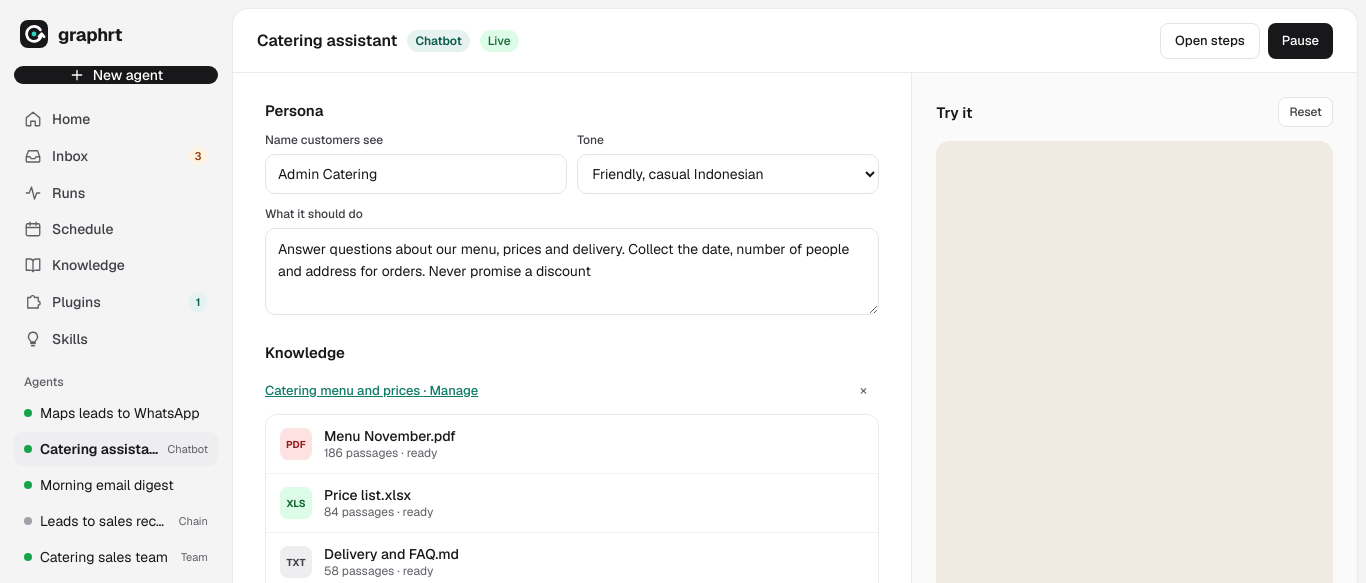
Test: ChatbotSetupPage › lists the attached knowledge base with its sources, and removes and adds knowledge
The width and height of the screenshot is (1366, 583).
Expected: the text "Menu November.pdf" is shown, left=324, top=427, right=456, bottom=445
Step 1. Click the button named "Remove Catering menu and prices" → [863, 390], box left=847, top=374, right=879, bottom=406
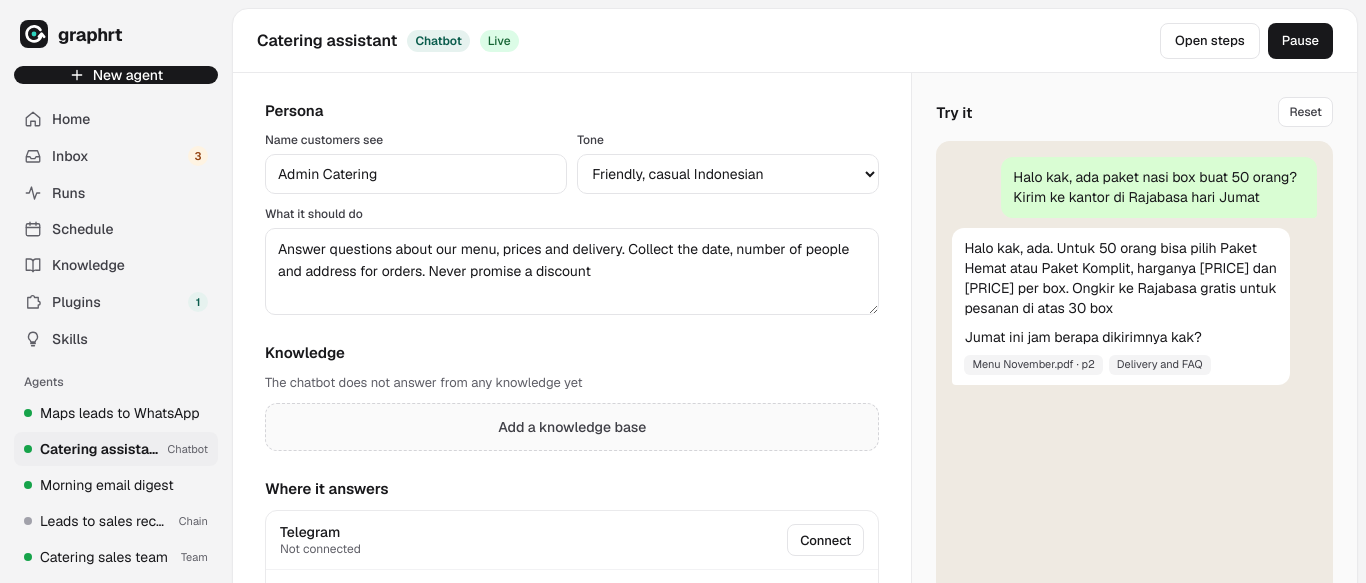
Expected: the text "The chatbot does not answer from any knowledge yet" is shown, left=265, top=374, right=583, bottom=391
Step 2. Click the button "Add a knowledge base" → [572, 427], box left=265, top=403, right=879, bottom=451
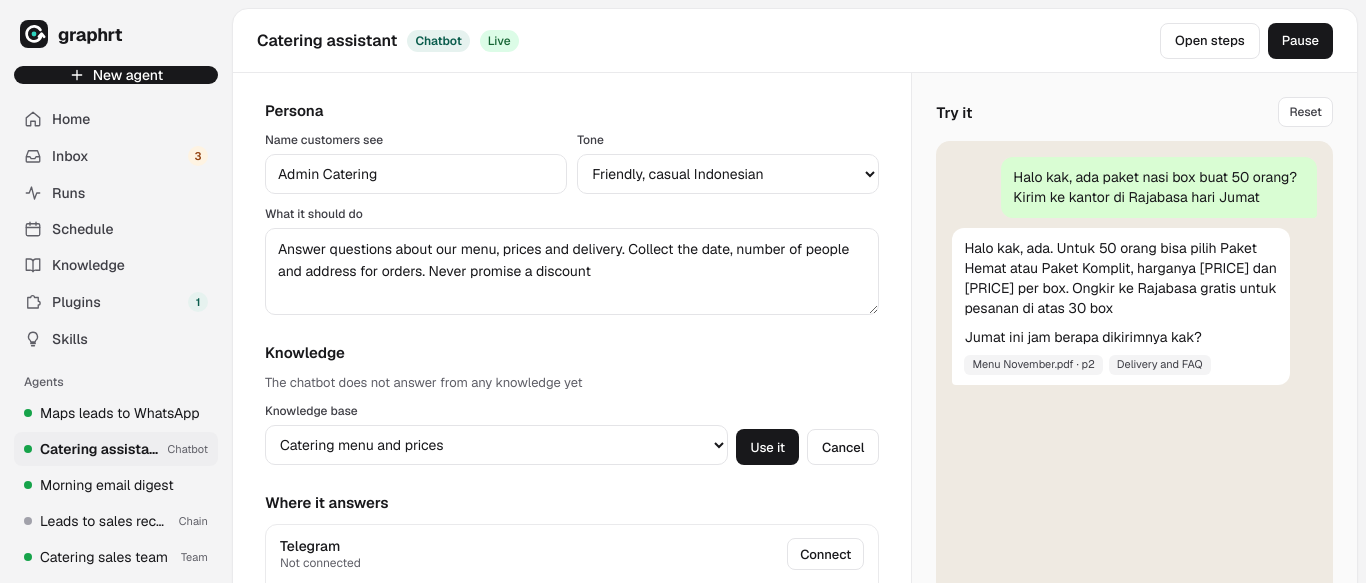
Step 3. Select "Past orders" in the dropdown labelled "Knowledge base" → [497, 445], box left=265, top=425, right=728, bottom=465
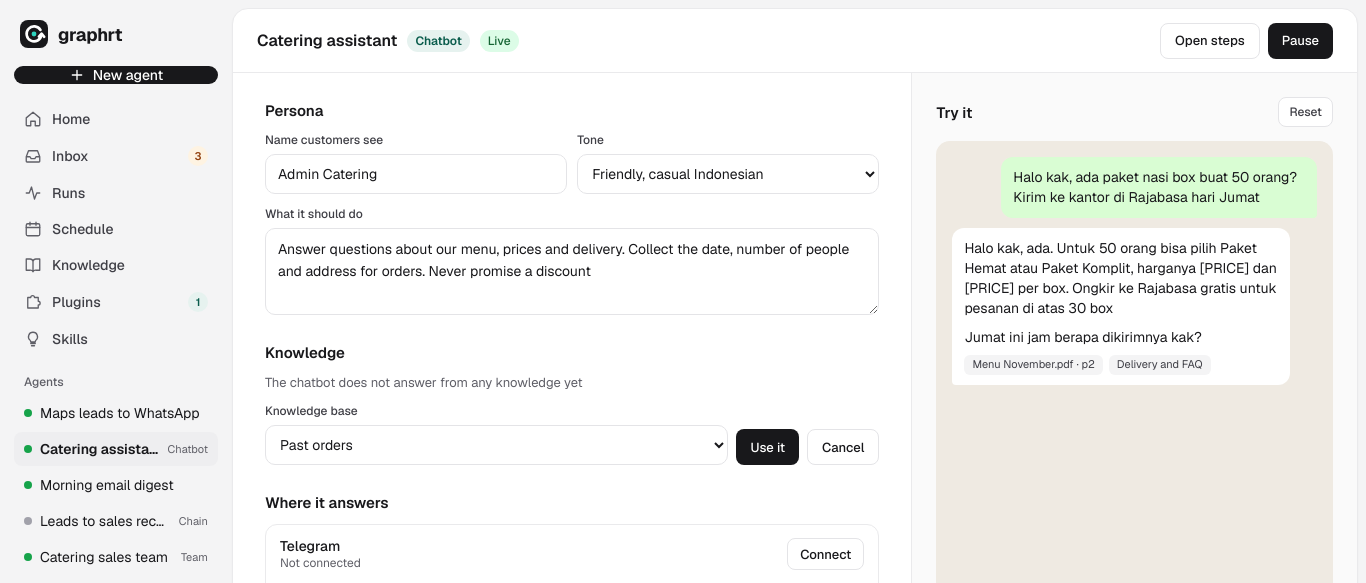
Step 4. Click the button "Use it" → [768, 447], box left=736, top=429, right=799, bottom=465
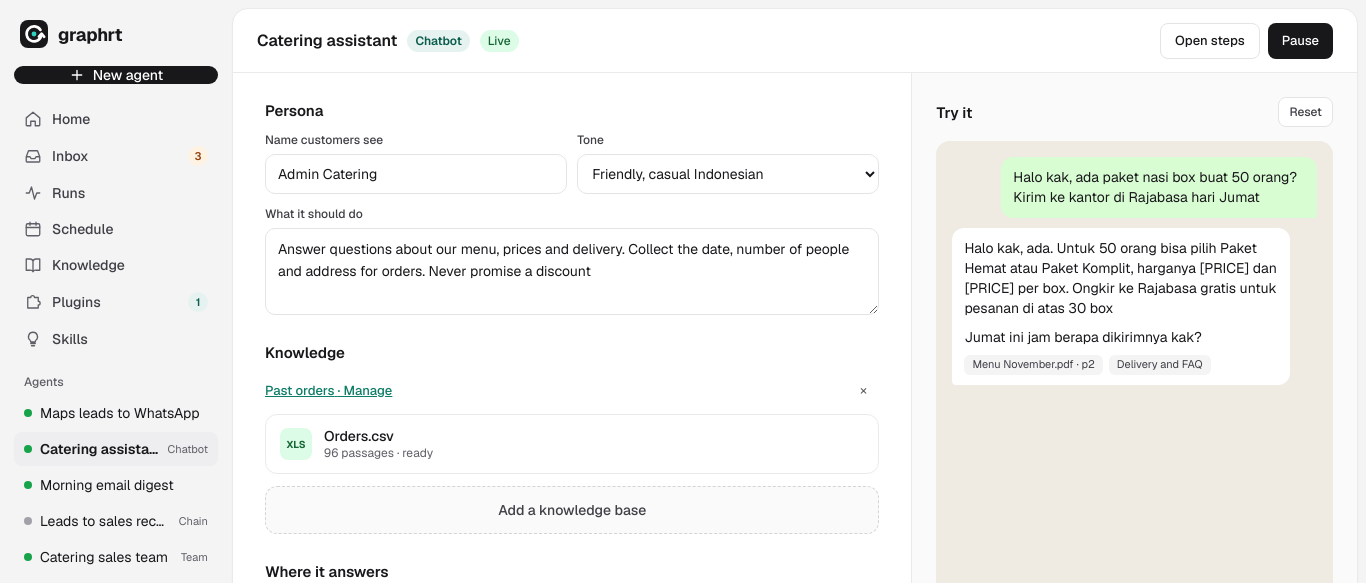
Expected: the text "Orders.csv" is shown, left=324, top=427, right=394, bottom=445
